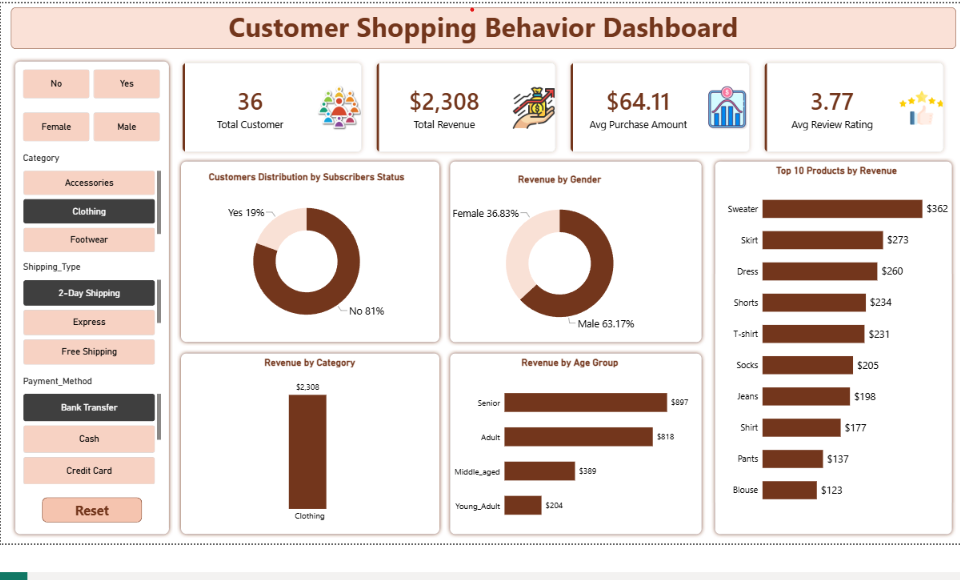

The dashboard page shown, as its layout file describes it:
{"tool":"powerbi","page":{"name":"Page 1","canvas":[1920,1080],"ordinal":0},"visuals":[{"type":"shape","box":[351.4,692.9,532.9,377.1],"z":0},{"type":"shape","box":[890.8,692.5,519.2,377.5],"z":1000},{"type":"shape","box":[1420,308.6,490,761.4],"z":2000},{"type":"shape","box":[890.8,308.3,519.2,377.5],"z":3000},{"type":"shape","box":[351.4,308.6,532.9,377.1],"z":4000},{"type":"cardVisual","fields":{"Data":["public customer.Total Customer","public customer.Total Revenue","public customer.Avg Purchase Amount","public customer.Avg Review Rating"]},"box":[351.4,108.6,1547.1,200],"z":5000},{"type":"textbox","box":[20,8.6,1890,82.9],"z":6000},{"type":"donutChart","title":"Customers Distribution by Subscribers Status","fields":{"Category":["public customer.subscription_status"],"Y":["public customer.Total Customer"]},"box":[364.3,322.9,494.3,351.4],"z":7000},{"type":"clusteredColumnChart","title":"Revenue by Category","fields":{"Category":["public customer.category"],"Y":["public customer.Total Revenue"]},"box":[364.3,692.9,507.1,365.7],"z":8000},{"type":"clusteredBarChart","title":"Revenue by Age Group","fields":{"Category":["public customer.age_group"],"Y":["public customer.Total Revenue"]},"box":[884.3,692.9,507.1,377.1],"z":9000},{"type":"donutChart","title":"Revenue by Gender","fields":{"Category":["public customer.gender"],"Y":["public customer.Total Revenue"]},"box":[858.3,325.2,518.6,351.4],"z":10000},{"type":"clusteredBarChart","title":"Top 10 Products by Revenue","fields":{"Category":["public customer.item_purchased"],"Y":["public customer.Total Revenue"]},"box":[1432.6,308.7,478.6,725.7],"z":11000},{"type":"shape","box":[20,108.5,323.8,961.5],"z":11001},{"type":"advancedSlicerVisual","fields":{"Values":["public customer.subscription_status"]},"box":[44.3,132.9,275.7,58.6],"z":11002},{"type":"advancedSlicerVisual","fields":{"Values":["public customer.gender"]},"box":[44.3,218.6,275.7,58.6],"z":11003},{"type":"advancedSlicerVisual","title":"Category","fields":{"Values":["public customer.category"]},"box":[44,298,276,201],"z":11004},{"type":"advancedSlicerVisual","title":"Shipping_Type","fields":{"Values":["public customer.shipping_type"]},"box":[44,515,276,208],"z":11005},{"type":"advancedSlicerVisual","title":"Payment_Method","fields":{"Values":["public customer.payment_method"]},"box":[44,743,276,218],"z":11006},{"type":"actionButton","box":[81.4,987.1,200,50],"z":11007}]}

Visuals, with their boxes on the page's 1920x1080 design canvas (x1, y1, x2, y2). These are canvas units, not pixel positions in the 960x580 screenshot, which may show the page scaled, cropped or inside an application window:
shape: <region>351, 693, 884, 1070</region>
shape: <region>891, 692, 1410, 1070</region>
shape: <region>1420, 309, 1910, 1070</region>
shape: <region>891, 308, 1410, 686</region>
shape: <region>351, 309, 884, 686</region>
cardVisual - public customer.Total Customer x public customer.Total Revenue: <region>351, 109, 1898, 309</region>
textbox: <region>20, 9, 1910, 92</region>
"Customers Distribution by Subscribers Status" donutChart: <region>364, 323, 859, 674</region>
"Revenue by Category" clusteredColumnChart: <region>364, 693, 871, 1059</region>
"Revenue by Age Group" clusteredBarChart: <region>884, 693, 1391, 1070</region>
"Revenue by Gender" donutChart: <region>858, 325, 1377, 677</region>
"Top 10 Products by Revenue" clusteredBarChart: <region>1433, 309, 1911, 1034</region>
shape: <region>20, 108, 344, 1070</region>
advancedSlicerVisual - public customer.subscription_status: <region>44, 133, 320, 192</region>
advancedSlicerVisual - public customer.gender: <region>44, 219, 320, 277</region>
"Category" advancedSlicerVisual: <region>44, 298, 320, 499</region>
"Shipping_Type" advancedSlicerVisual: <region>44, 515, 320, 723</region>
"Payment_Method" advancedSlicerVisual: <region>44, 743, 320, 961</region>
actionButton: <region>81, 987, 281, 1037</region>
